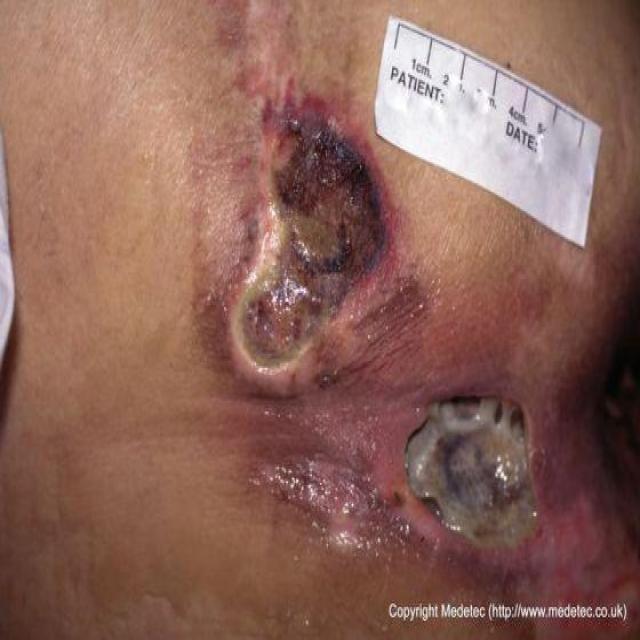Unstageable: (232, 111, 385, 369), (405, 399, 536, 546)
